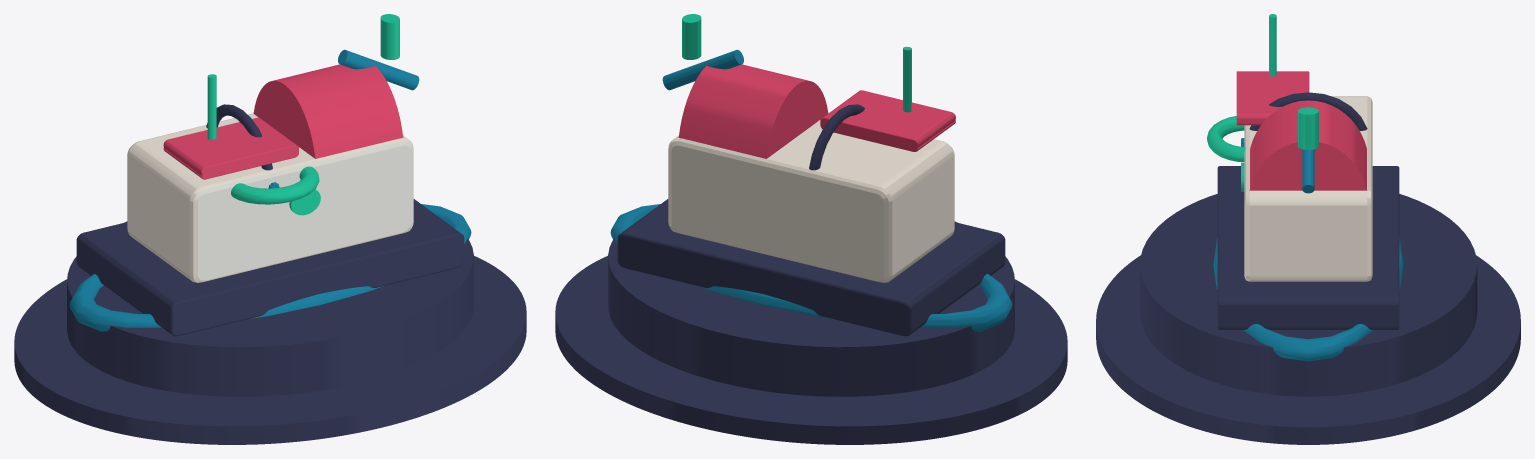
File: 0446_机械图鉴_古埃及滚木.glb
3 renders of one model, left to right at view 1: azimuth 30°, elevation 25°; view 2: azimuth 150°, elevation 25°; view 3: azimuth 270°, elevation 25°, orthographic. The views are drawn at different scales.
Parts seen in each view (by area): view 1: card_0446; view 2: card_0446; view 3: card_0446.
Part boxes in pixels (x1=…): card_0446: x1=14, y1=14, x2=526, y2=444; card_0446: x1=555, y1=14, x2=1067, y2=444; card_0446: x1=1096, y1=14, x2=1520, y2=444.
Bounding box in the file's own units: 1.6 × 1 × 1.34.
